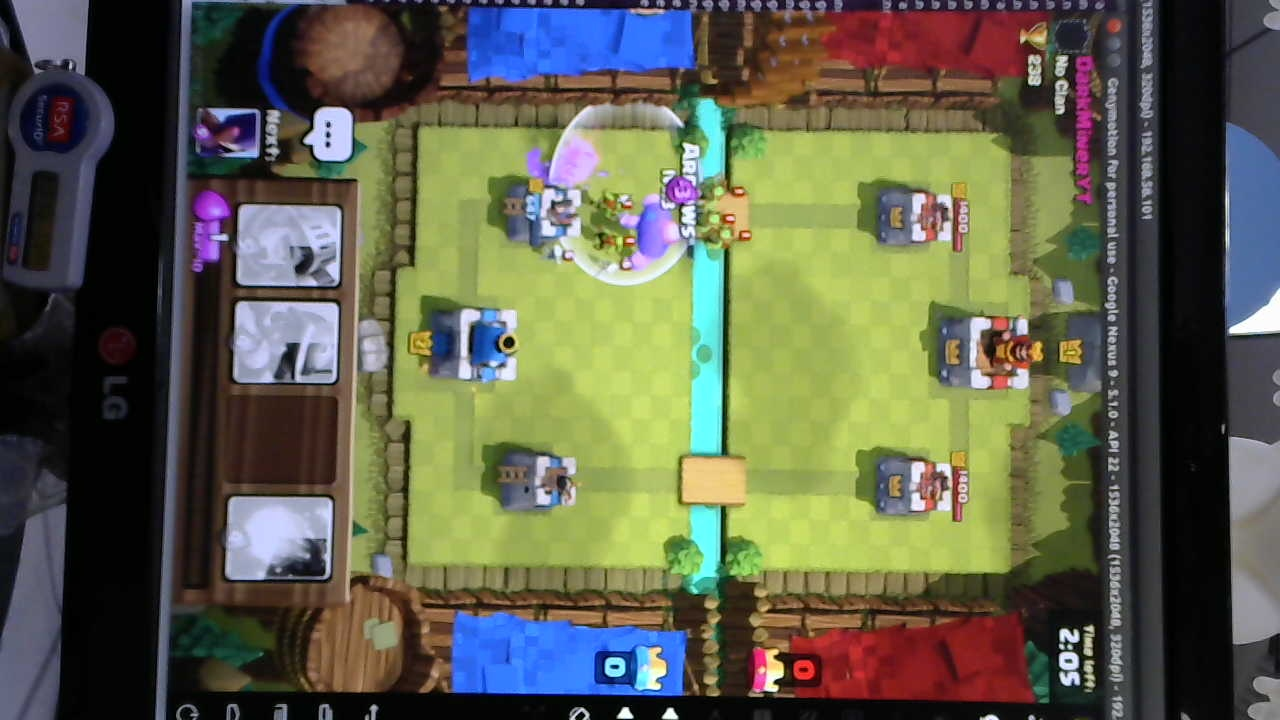arena: (503, 180, 586, 245), (496, 446, 575, 514)
earena: (874, 184, 958, 248), (874, 459, 958, 517)
eking: (935, 316, 1042, 395)
giant: (623, 189, 681, 272)
goblins: (592, 187, 635, 255)
king: (424, 308, 519, 386)
skeleton: (543, 246, 576, 269)
speargoblins: (694, 174, 750, 255)
